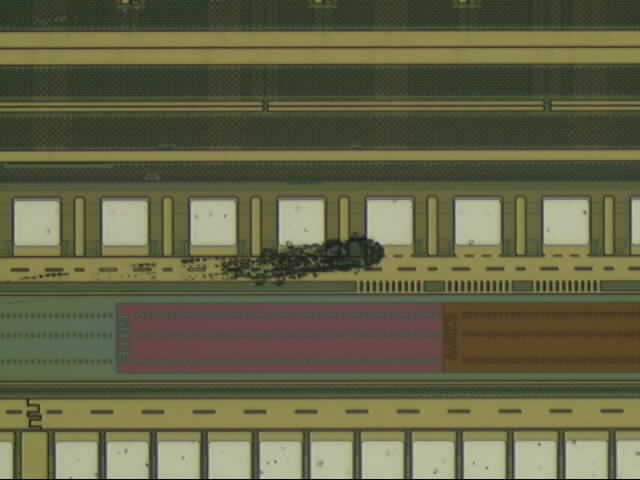SCRATCH: (18, 231, 390, 315)
